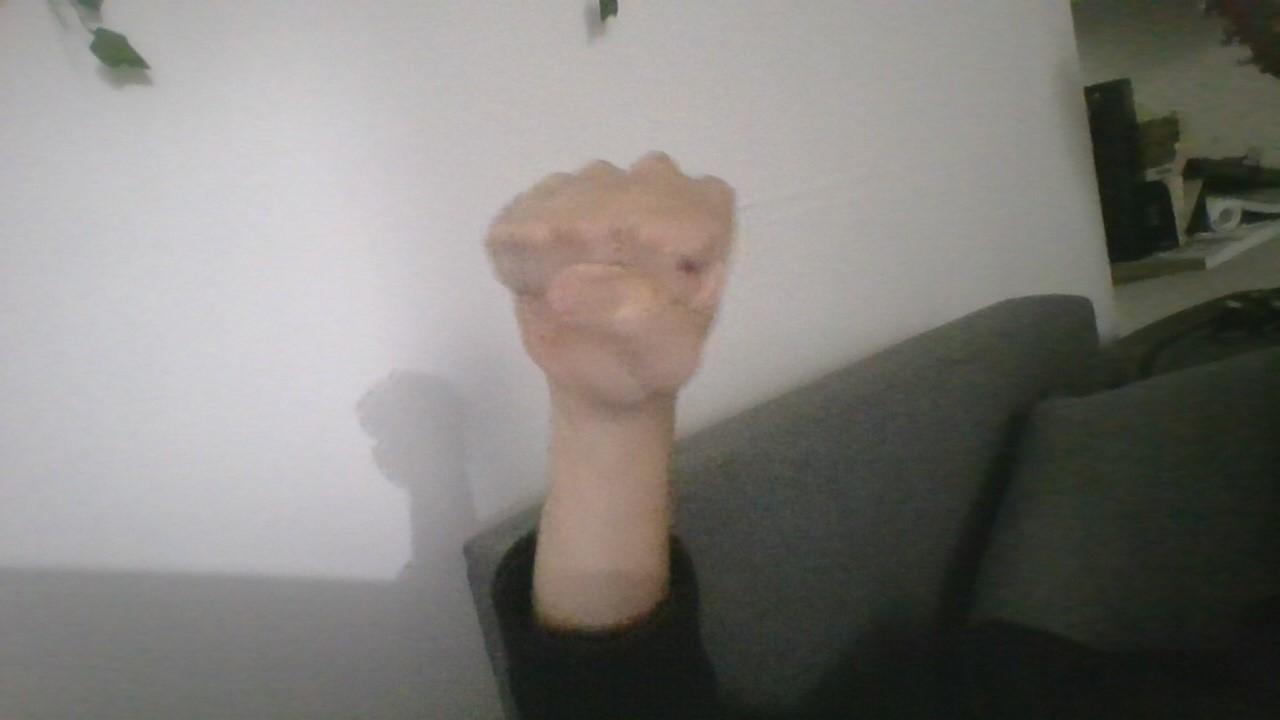stop: (466, 126, 764, 438)
